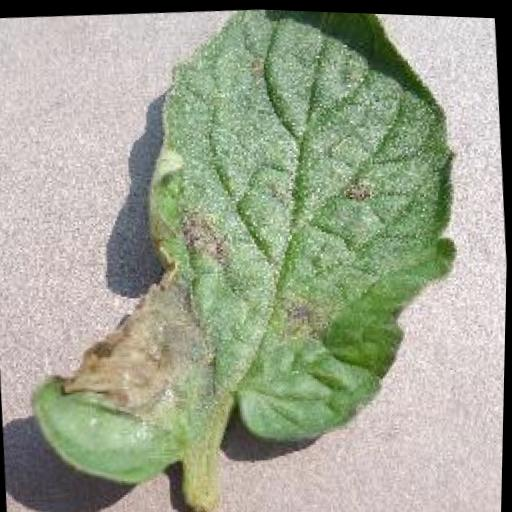Late Blight: (2, 0, 478, 503)
